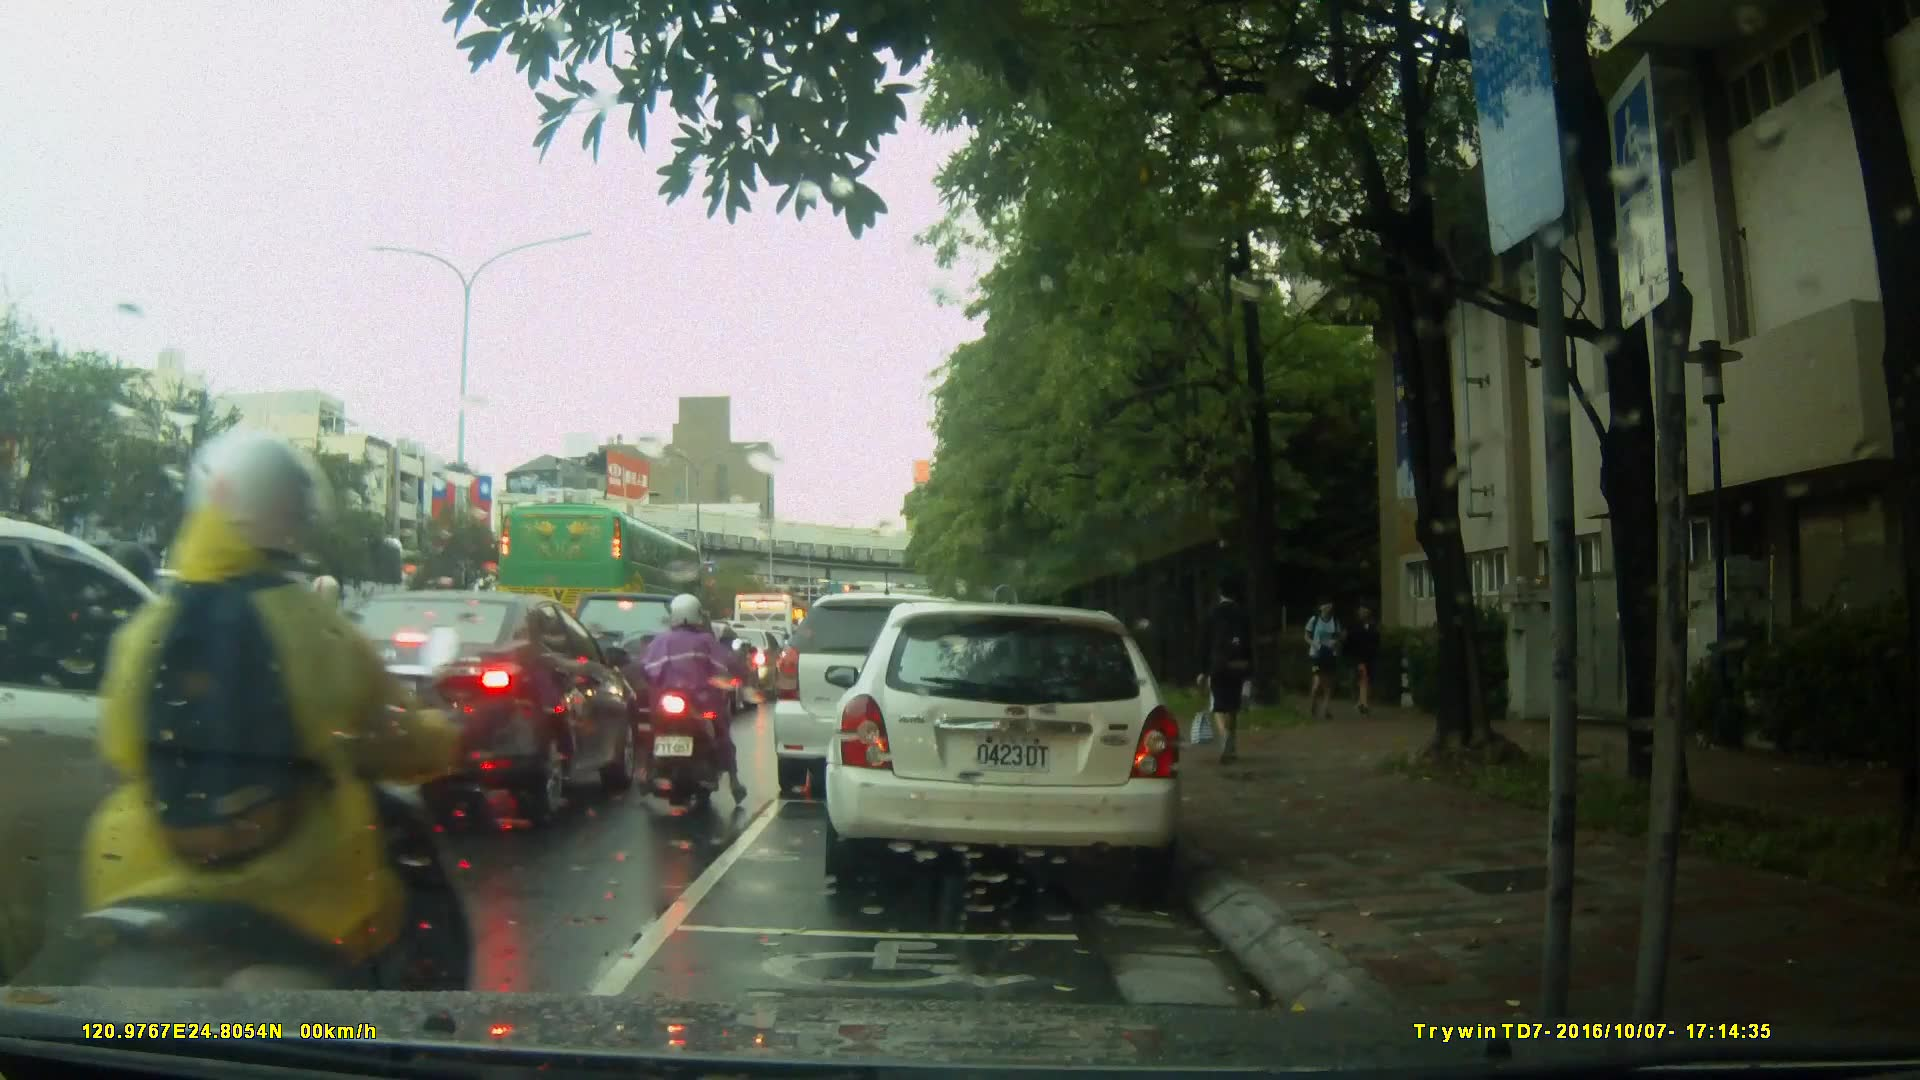pedestrian: (1192, 570, 1263, 767), (1303, 591, 1358, 723), (1340, 595, 1380, 716)
rider: (77, 427, 474, 1074), (647, 589, 744, 813)
vehicle: (1, 520, 352, 986), (831, 592, 1196, 897), (267, 587, 640, 824), (28, 565, 343, 760), (770, 592, 999, 799), (547, 575, 751, 751), (495, 502, 707, 644)
